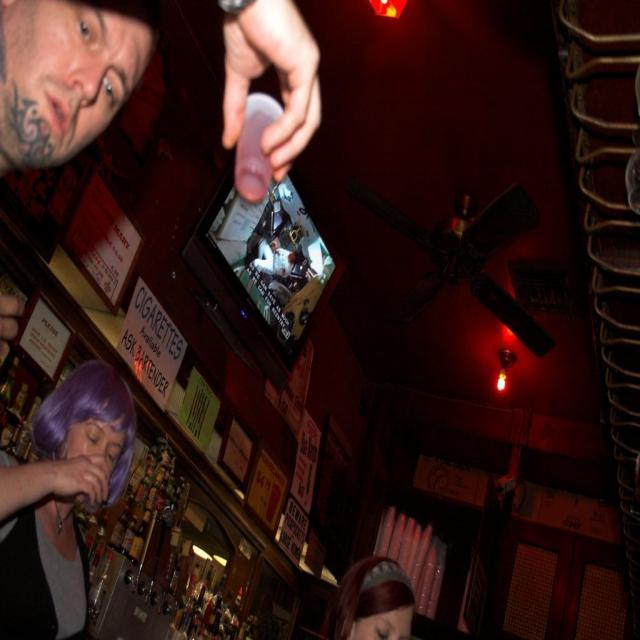bulb_on: (496, 366, 508, 394)
fan_off: (344, 174, 560, 364)
